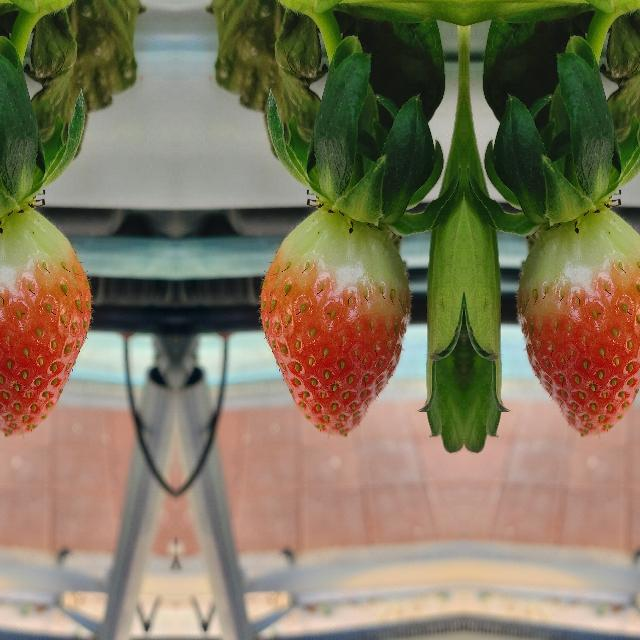Health_75: (255, 209, 410, 437), (515, 209, 640, 437), (0, 209, 94, 437)
